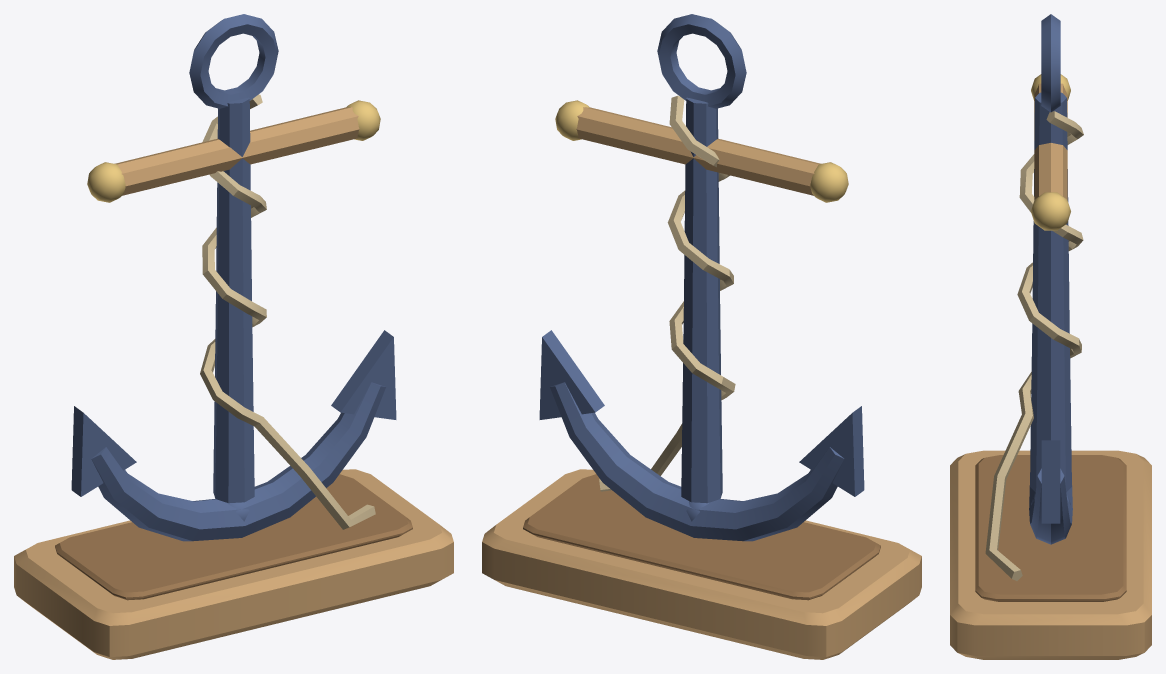
The model's file is furn_anchor.glb.
The picture shows the model from 3 angles, left to right: view 1: azimuth 30°, elevation 25°; view 2: azimuth 150°, elevation 25°; view 3: azimuth 270°, elevation 25°; orthographic projection. The views are drawn at different scales.
Parts seen in each view (by area): view 1: furn_anchor_body; view 2: furn_anchor_body; view 3: furn_anchor_body.
Part boxes in pixels (bbox=[...]): furn_anchor_body: bbox=[14, 14, 453, 659]; furn_anchor_body: bbox=[482, 14, 921, 659]; furn_anchor_body: bbox=[950, 14, 1151, 659].
Bounding box in the file's own units: 0.48 × 0.7335 × 0.24.
